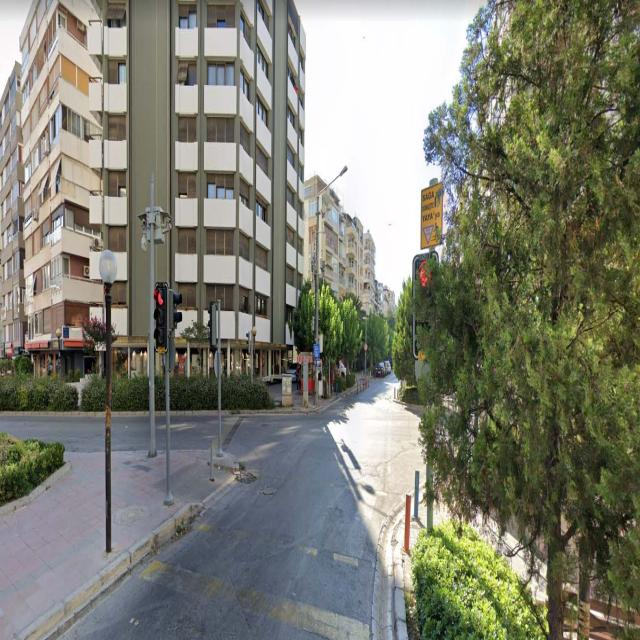kirmizi: (155, 281, 166, 350)
